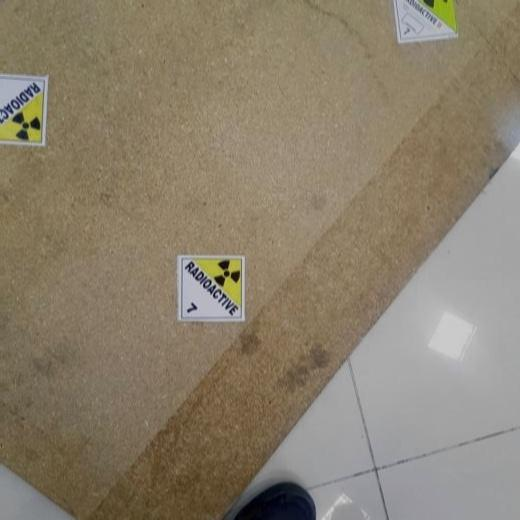radioactive: (176, 255, 245, 320), (1, 77, 47, 146), (394, 1, 455, 43)
